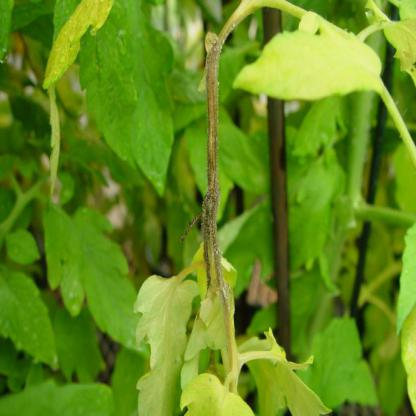Tomato mold leaf: (126, 258, 202, 376), (181, 270, 240, 364)
